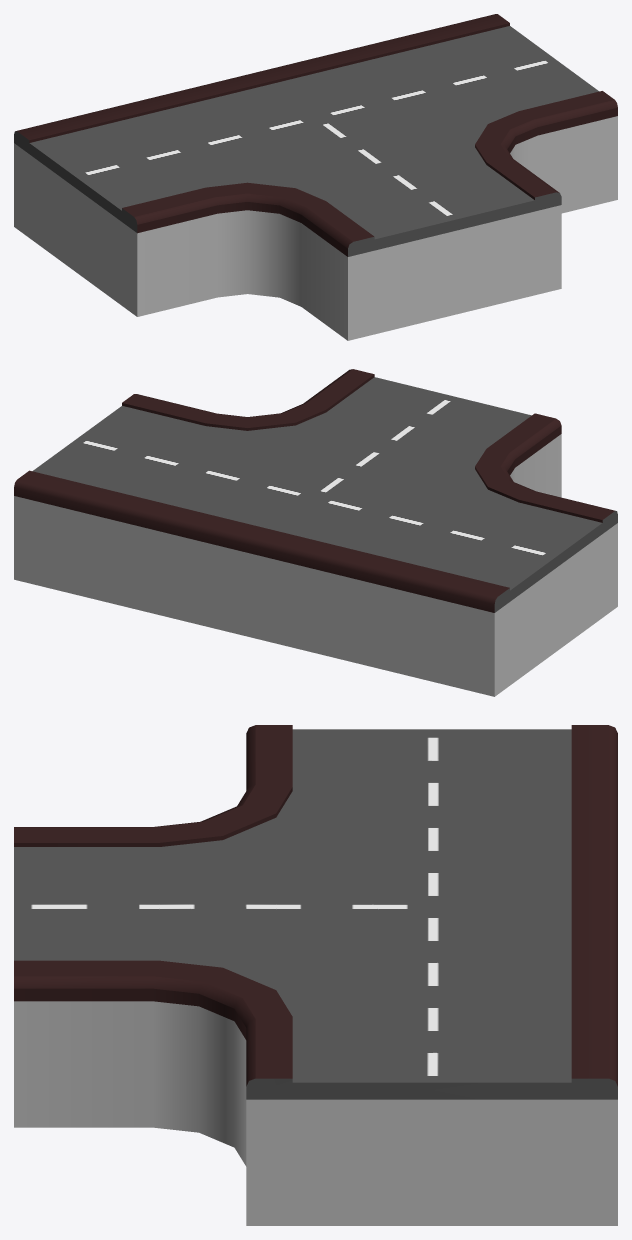
Rendered from Crossroads T border.fbx.
3 renders of one model, top to bottom at view 1: azimuth 30°, elevation 25°; view 2: azimuth 150°, elevation 25°; view 3: azimuth 270°, elevation 25°, orthographic. The views are drawn at different scales.
Visible parts, largest first — view 1: Crossroads_1, Basis; view 2: Crossroads_1, Basis; view 3: Crossroads_1, Basis.
Part boxes in pixels (x1,y1,x2,y2): Crossroads_1: [14, 14, 617, 256]; Basis: [14, 116, 617, 340]; Crossroads_1: [14, 369, 617, 612]; Basis: [14, 434, 617, 696]; Crossroads_1: [14, 725, 617, 1099]; Basis: [14, 1001, 617, 1225].
Bounding box in the file's own units: 1800 × 350 × 1300.
